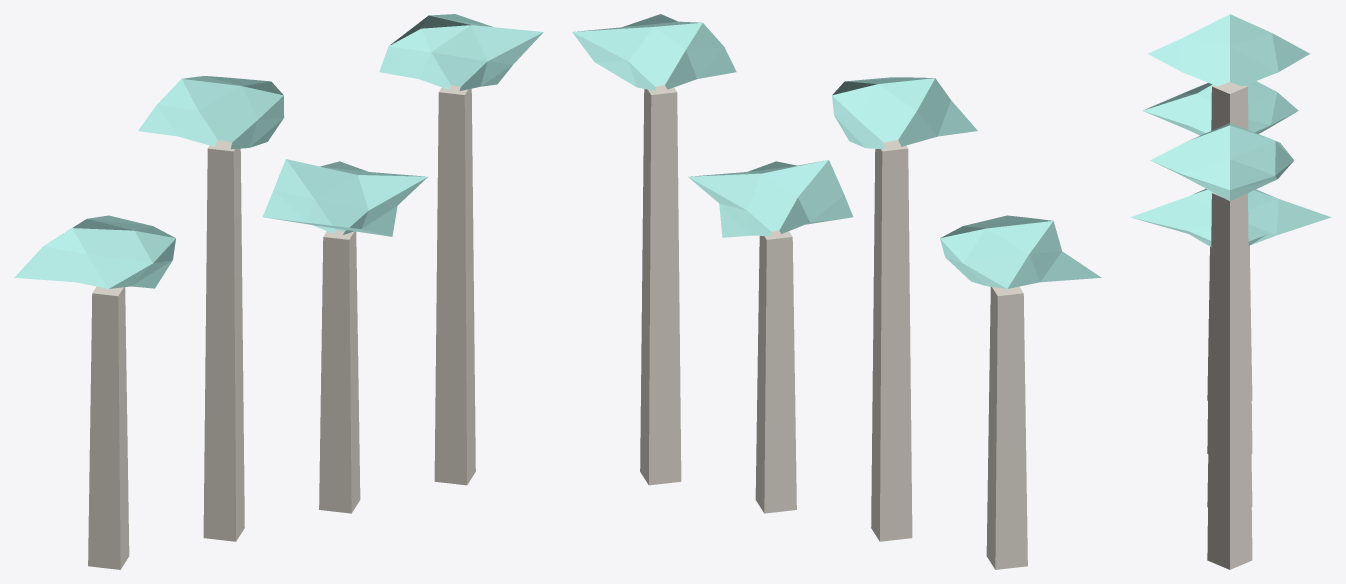
The model's file is glowcap_v23.glb.
3 views of the same model, side by side, from view 1: azimuth 30°, elevation 25°; view 2: azimuth 150°, elevation 25°; view 3: azimuth 270°, elevation 25° (orthographic). The views are drawn at different scales.
Visible parts, largest first — view 1: lod0; view 2: lod0; view 3: lod0.
Part boxes in pixels (x1=…): lod0: x1=14, y1=14, x2=543, y2=569; lod0: x1=572, y1=14, x2=1101, y2=569; lod0: x1=1130, y1=14, x2=1331, y2=569.
Size of what is drawn, in the model's own units: 0.6421 by 0.5359 by 0.2237.
